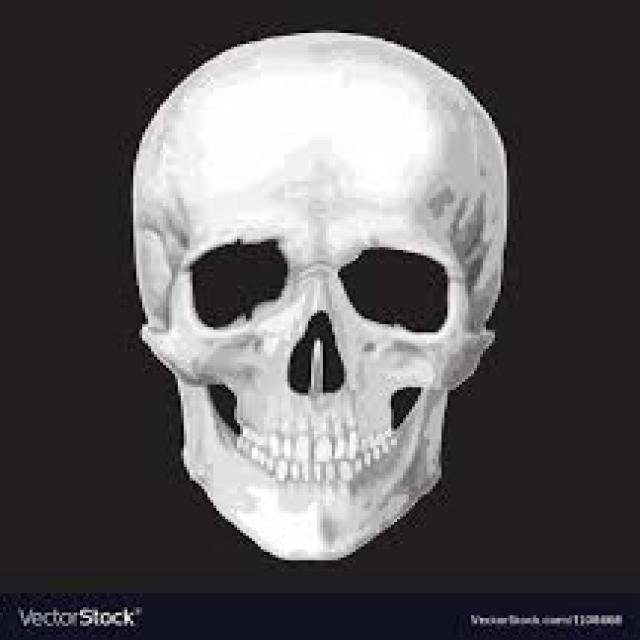skull: (123, 19, 524, 558)
